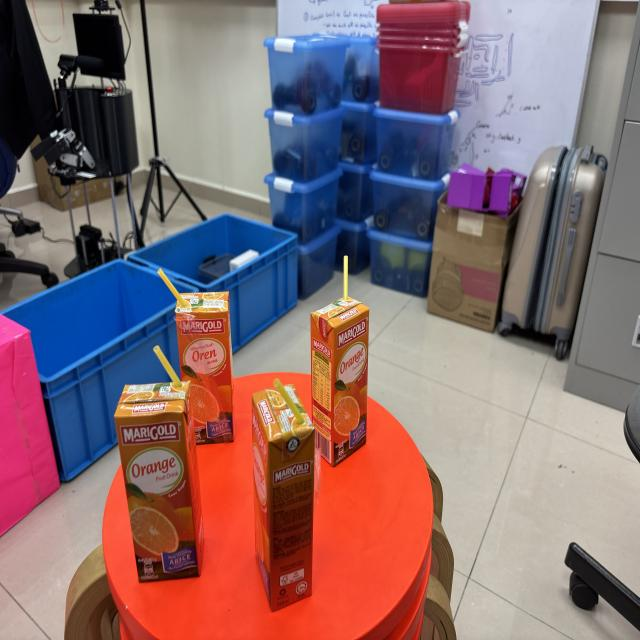drink_carton: (110, 342, 212, 598), (244, 371, 323, 618), (151, 262, 242, 454), (307, 251, 373, 472)
